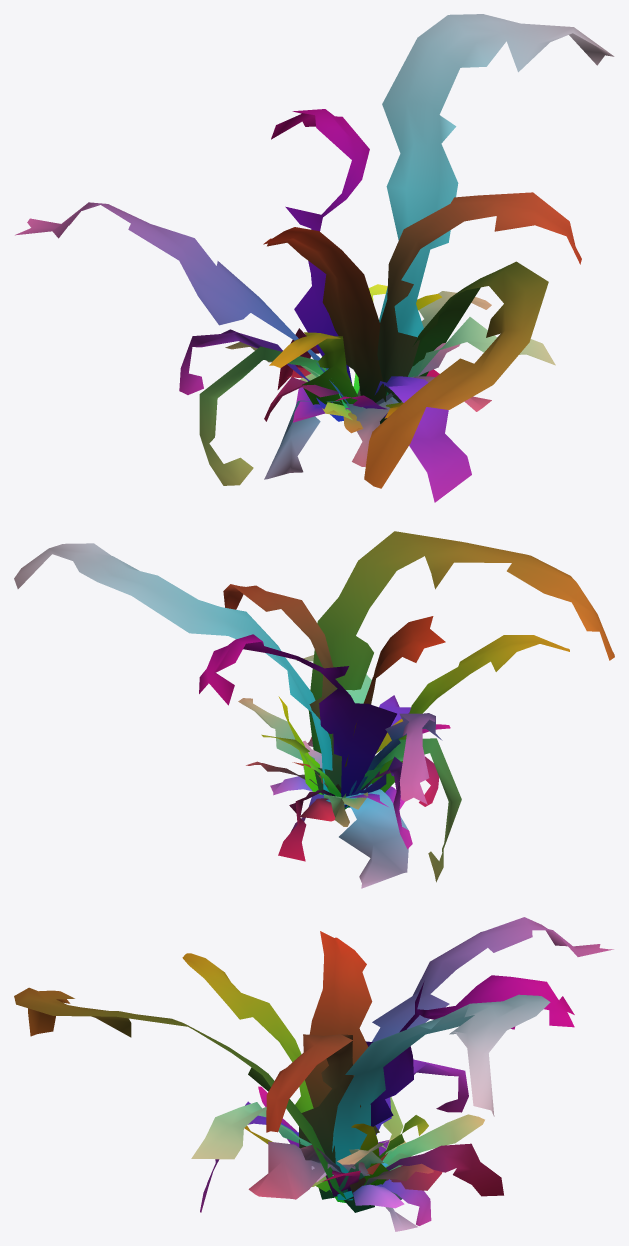
The model's file is Fern_sbslY_High_sbslY_VarB_LOD0.fbx.
3 renders of one model, top to bottom at view 1: azimuth 30°, elevation 25°; view 2: azimuth 150°, elevation 25°; view 3: azimuth 270°, elevation 25°, orthographic. The views are drawn at different scales.
Visible parts, largest first — view 1: _014a_VarB_LOD0; view 2: _014a_VarB_LOD0; view 3: _014a_VarB_LOD0.
Boxes of the visible parts, left/top/right/bottom form: _014a_VarB_LOD0: left=15, top=14, right=614, bottom=502; _014a_VarB_LOD0: left=14, top=531, right=614, bottom=888; _014a_VarB_LOD0: left=14, top=917, right=613, bottom=1231.
Bounding box in the file's own units: 123 × 75.94 × 122.
